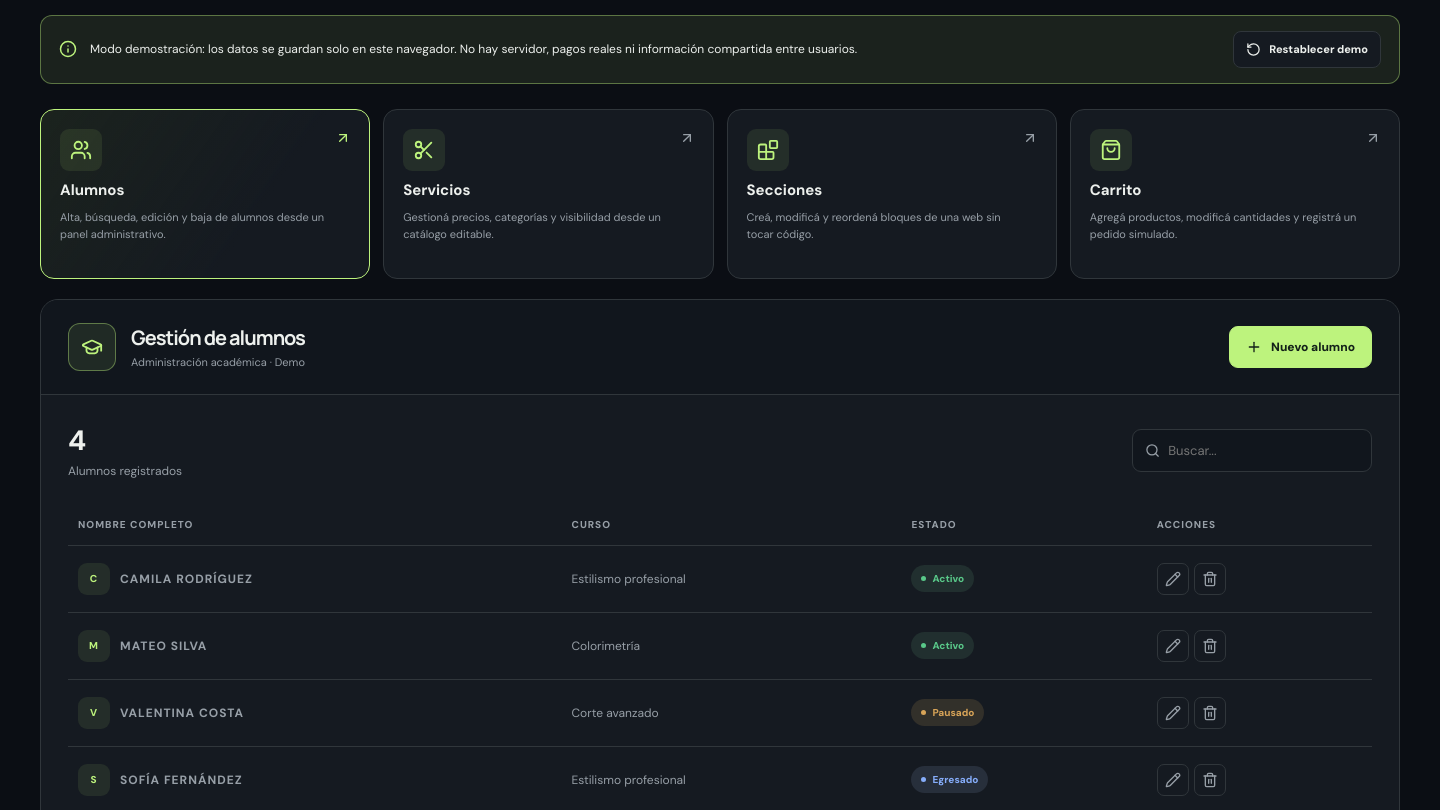
LabPage — students demo › loads the initial student records and supports searching
(page scrolled)
Expected: the text "Camila Rodríguez" is shown, top-left (120, 571), bottom-right (253, 587)
Expected: the text "Mateo Silva" is shown, top-left (120, 638), bottom-right (207, 654)
In the field with placeholder "Buscar...": (1264, 450) top-left (1168, 430), bottom-right (1359, 471), type "Camila"
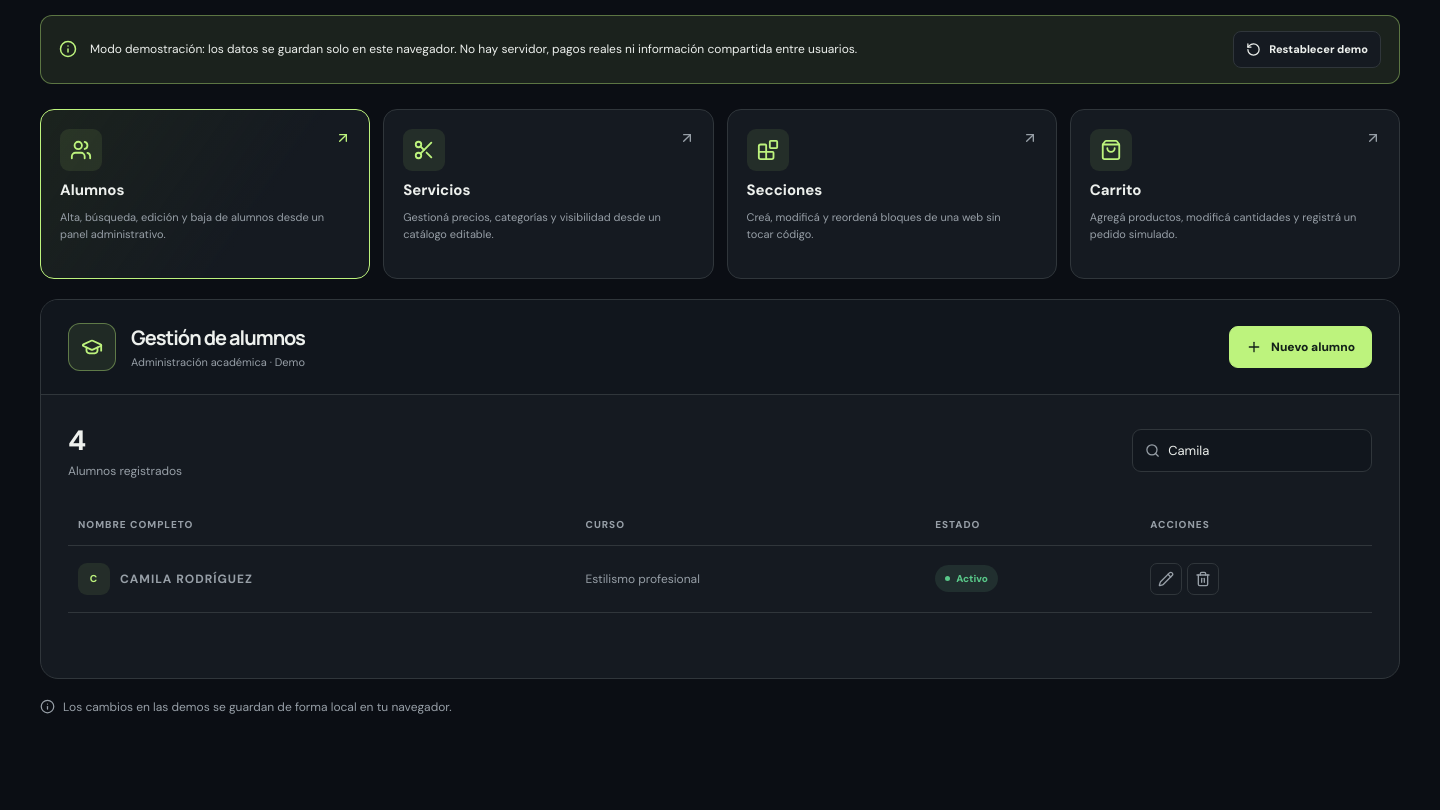
Expected: the text "Camila Rodríguez" is shown, top-left (120, 571), bottom-right (253, 587)
Result: the text "Mateo Silva" is gone
